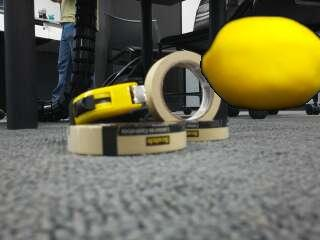lemon: (201, 19, 318, 112)
